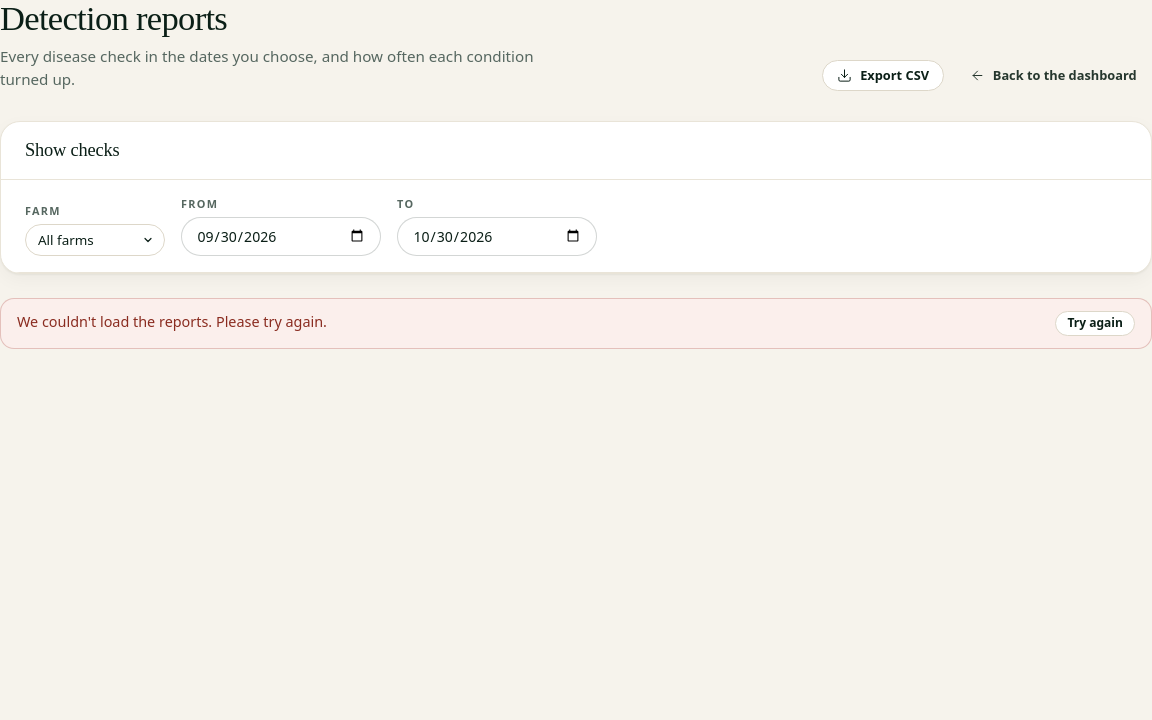
Detection reports page › offers a retry when the reports cannot load
Expected: the message shows "We couldn't load the reports", [17, 312, 327, 331]
Click the button "Try again": (1095, 323) [1055, 311, 1135, 336]
(page scrolled)
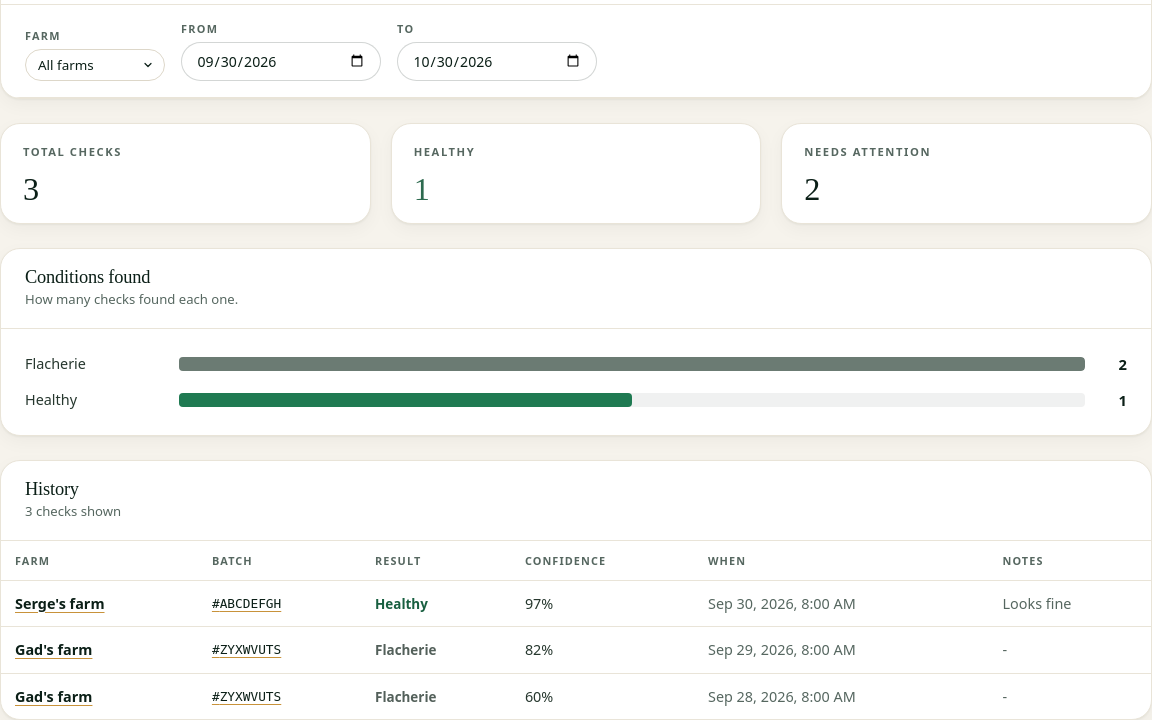
Now the link "Serge's farm" is shown, box [15, 594, 104, 613]
